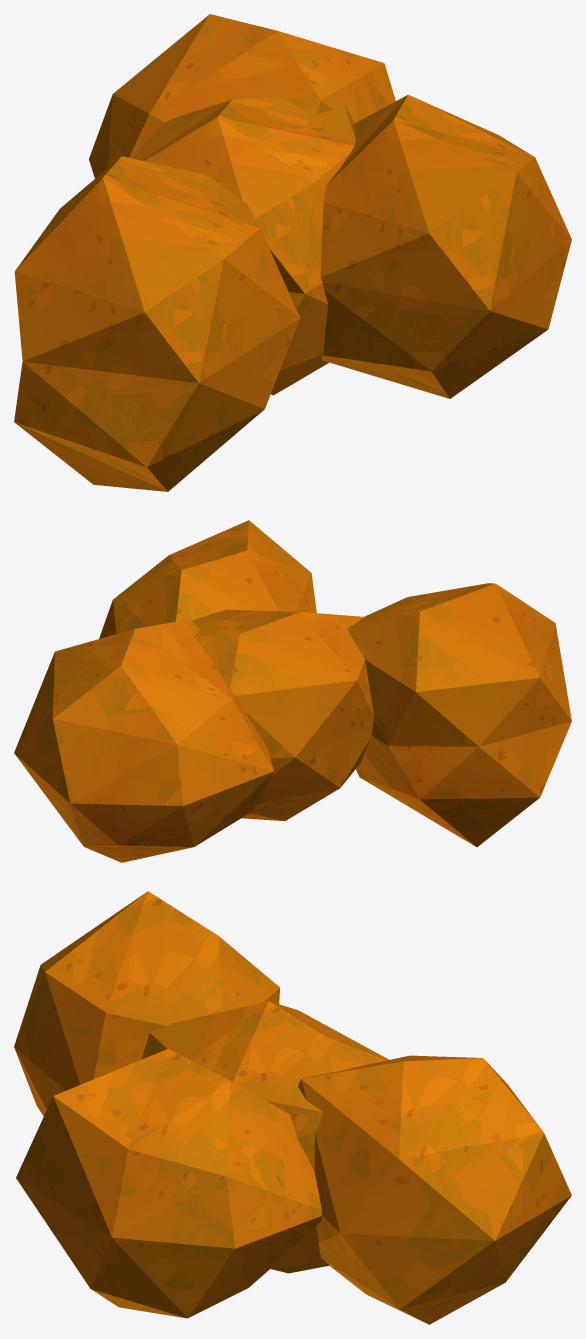
The model's file is gf_int_bigbolders_1.glb.
3 renders of one model, top to bottom at view 1: azimuth 30°, elevation 25°; view 2: azimuth 150°, elevation 25°; view 3: azimuth 270°, elevation 25°, orthographic. The views are drawn at different scales.
Visible parts, largest first — view 1: rocks1.1; view 2: rocks1.1; view 3: rocks1.1.
Part boxes in pixels (x1,y1,x2,y2): rocks1.1: (14,14,571,491); rocks1.1: (14,520,571,862); rocks1.1: (14,891,571,1324).
Bounding box in the file's own units: 5.17 × 2.91 × 4.97.
1 material, 1 textured.
